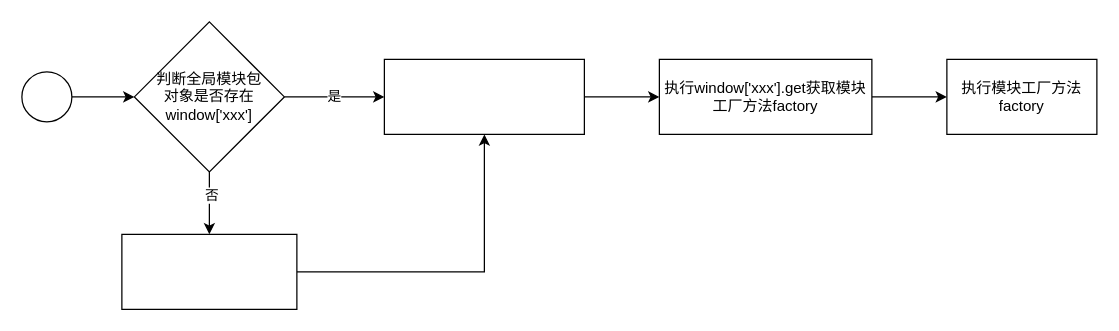
This 1119x331 diagram has some shape labels left out. The shapes that lost their labels are listed below. From the top down, each one's box as (x1, y1, x2, y2) in pixels, then its label:
(383, 58, 584, 134): 执行window['xxx'].init进行模块初始化
(121, 233, 297, 309): 动态加载远程模块js文件
